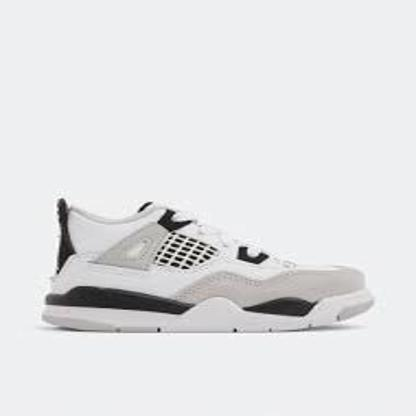not trash: (49, 196, 374, 330)
